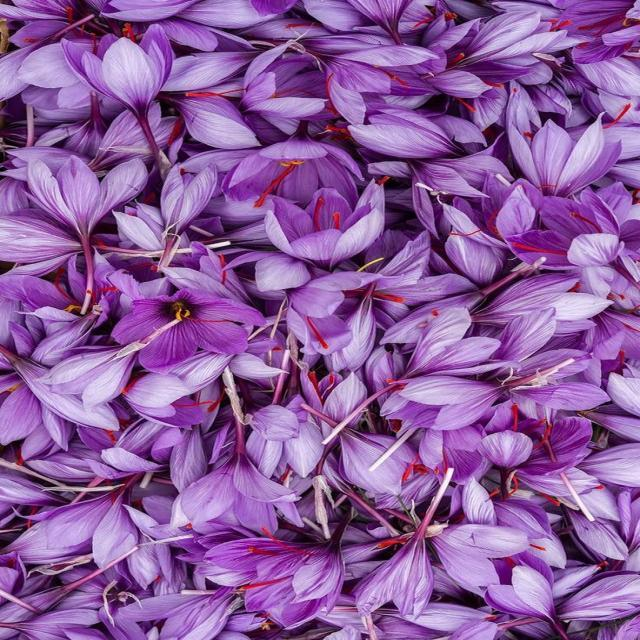Flower: (12, 1, 640, 640)
stigma: (240, 505, 322, 564), (242, 139, 306, 214), (488, 385, 554, 444), (511, 222, 569, 264), (302, 309, 339, 361), (371, 284, 410, 314)
